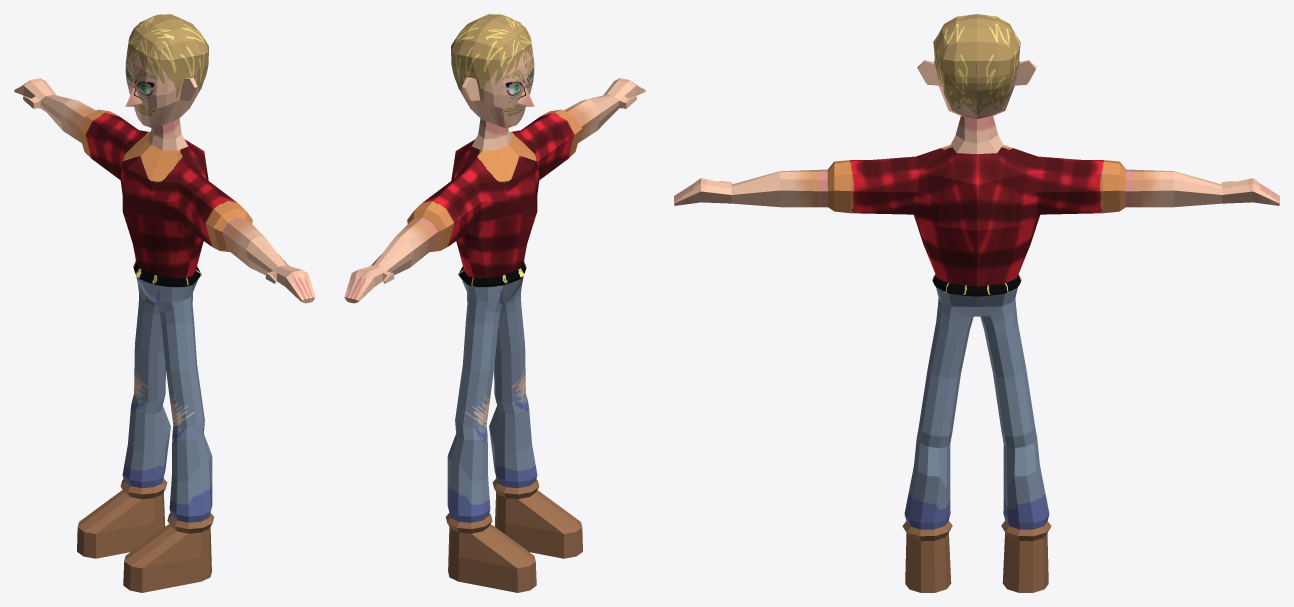
Rendered from lacaio2.fbx.
The picture shows the model from 3 angles, left to right: view 1: azimuth 30°, elevation 25°; view 2: azimuth 150°, elevation 25°; view 3: azimuth 270°, elevation 25°; orthographic projection. The views are drawn at different scales.
Parts seen in each view (by area): view 1: Cylinder; view 2: Cylinder; view 3: Cylinder.
Boxes of the visible parts, bbox=[...] form: Cylinder: bbox=[14, 14, 315, 592]; Cylinder: bbox=[344, 14, 645, 592]; Cylinder: bbox=[674, 14, 1279, 592].
Size of the model in its own units: 90.39 by 441 by 429.
Materials: 1 (1 with a texture image).
